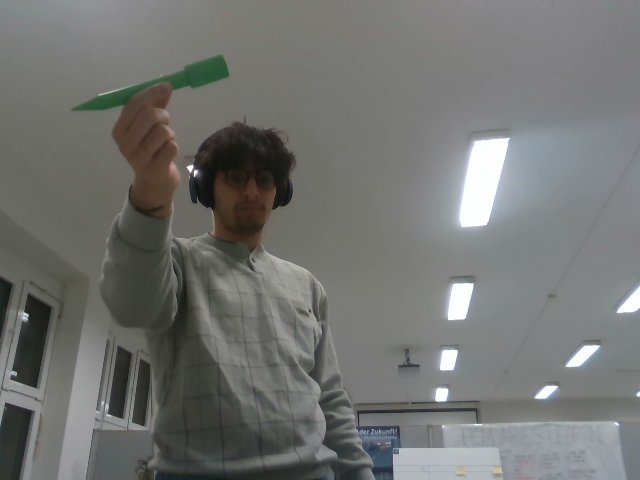Probe: (65, 49, 231, 115)
